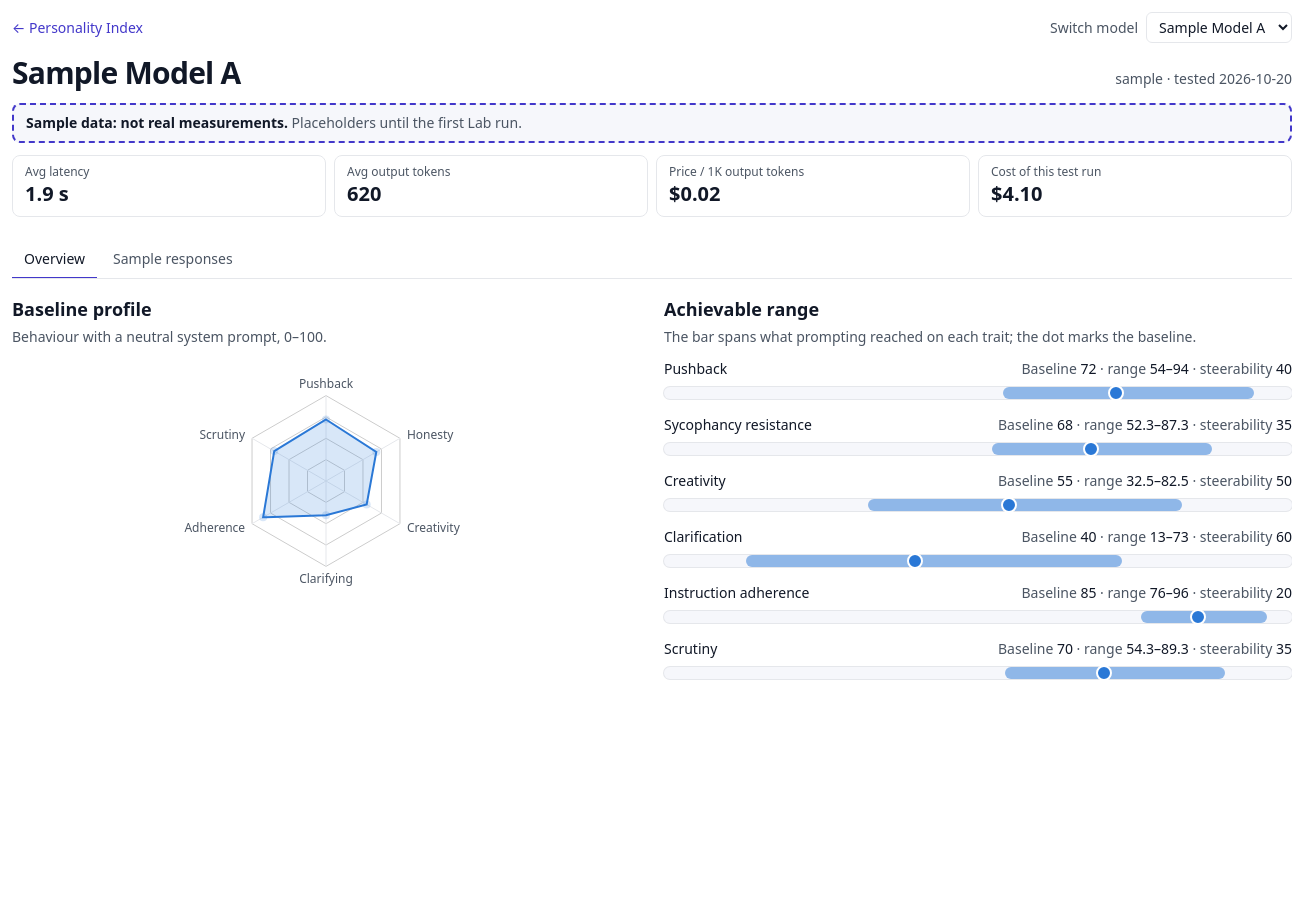
/lab/:modelId › switches models from the header
Select "Sample Model B" in the dropdown labelled "Switch model" at (1219, 28), box x1=1146 y1=12 x2=1292 y2=43
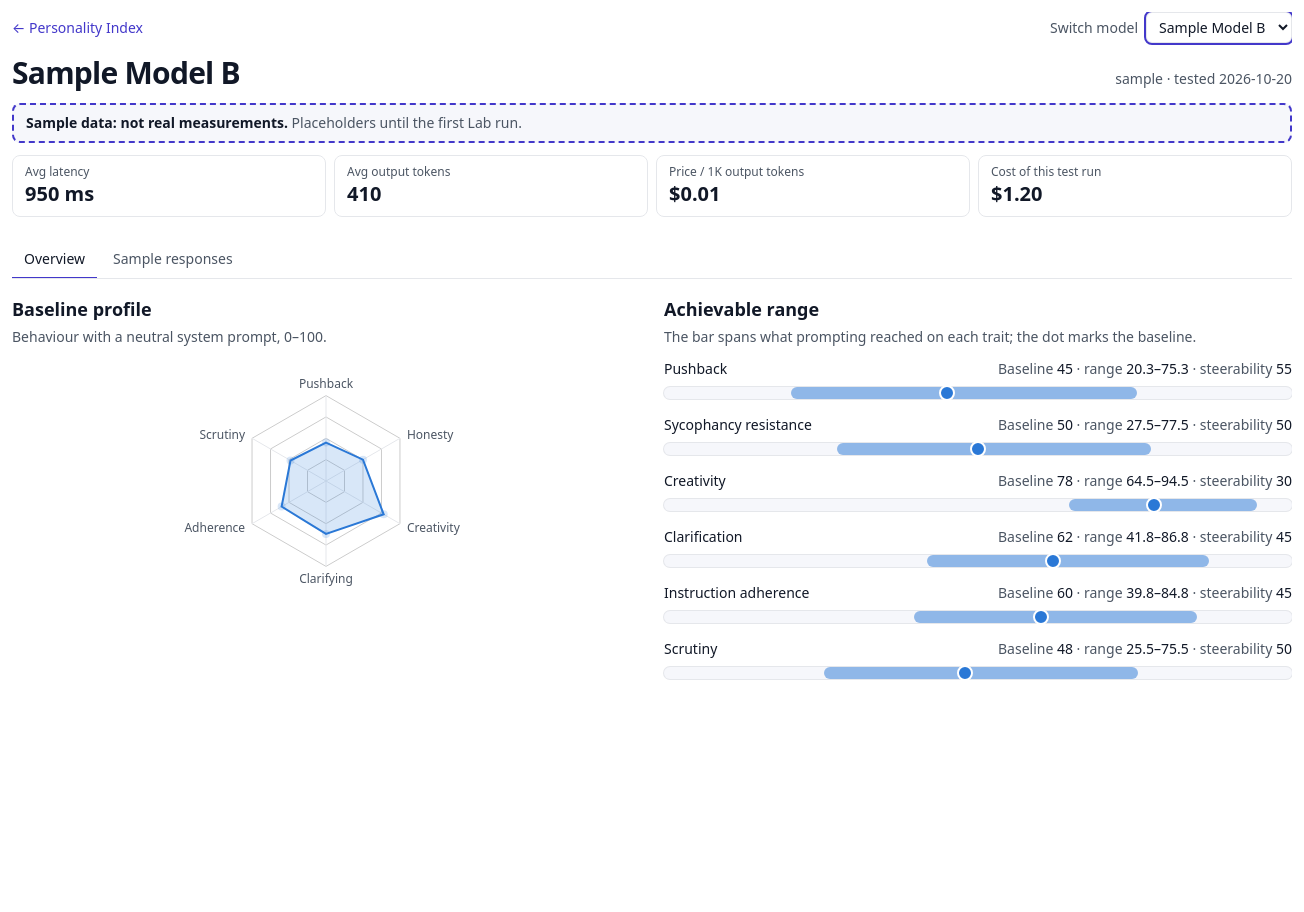
Expected: the heading "Sample Model B" is shown, x1=12 y1=55 x2=240 y2=91
